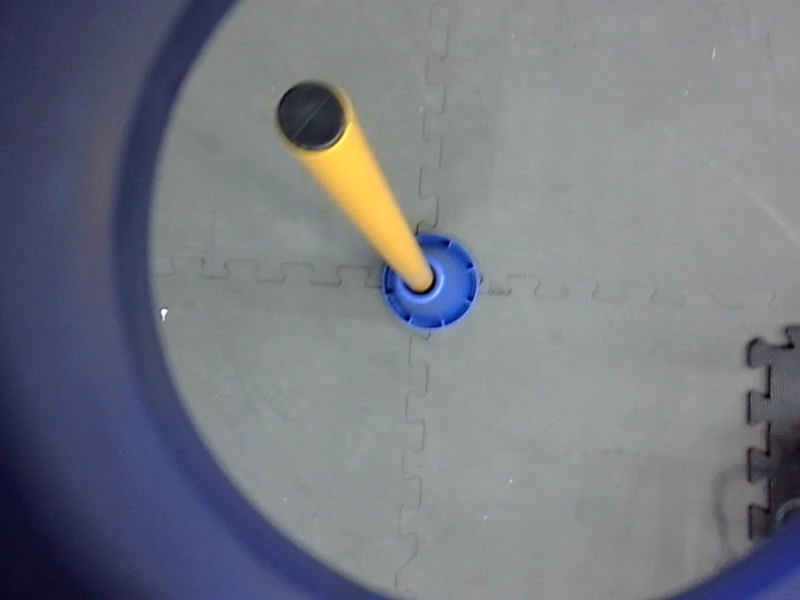tip: (267, 72, 359, 162)
